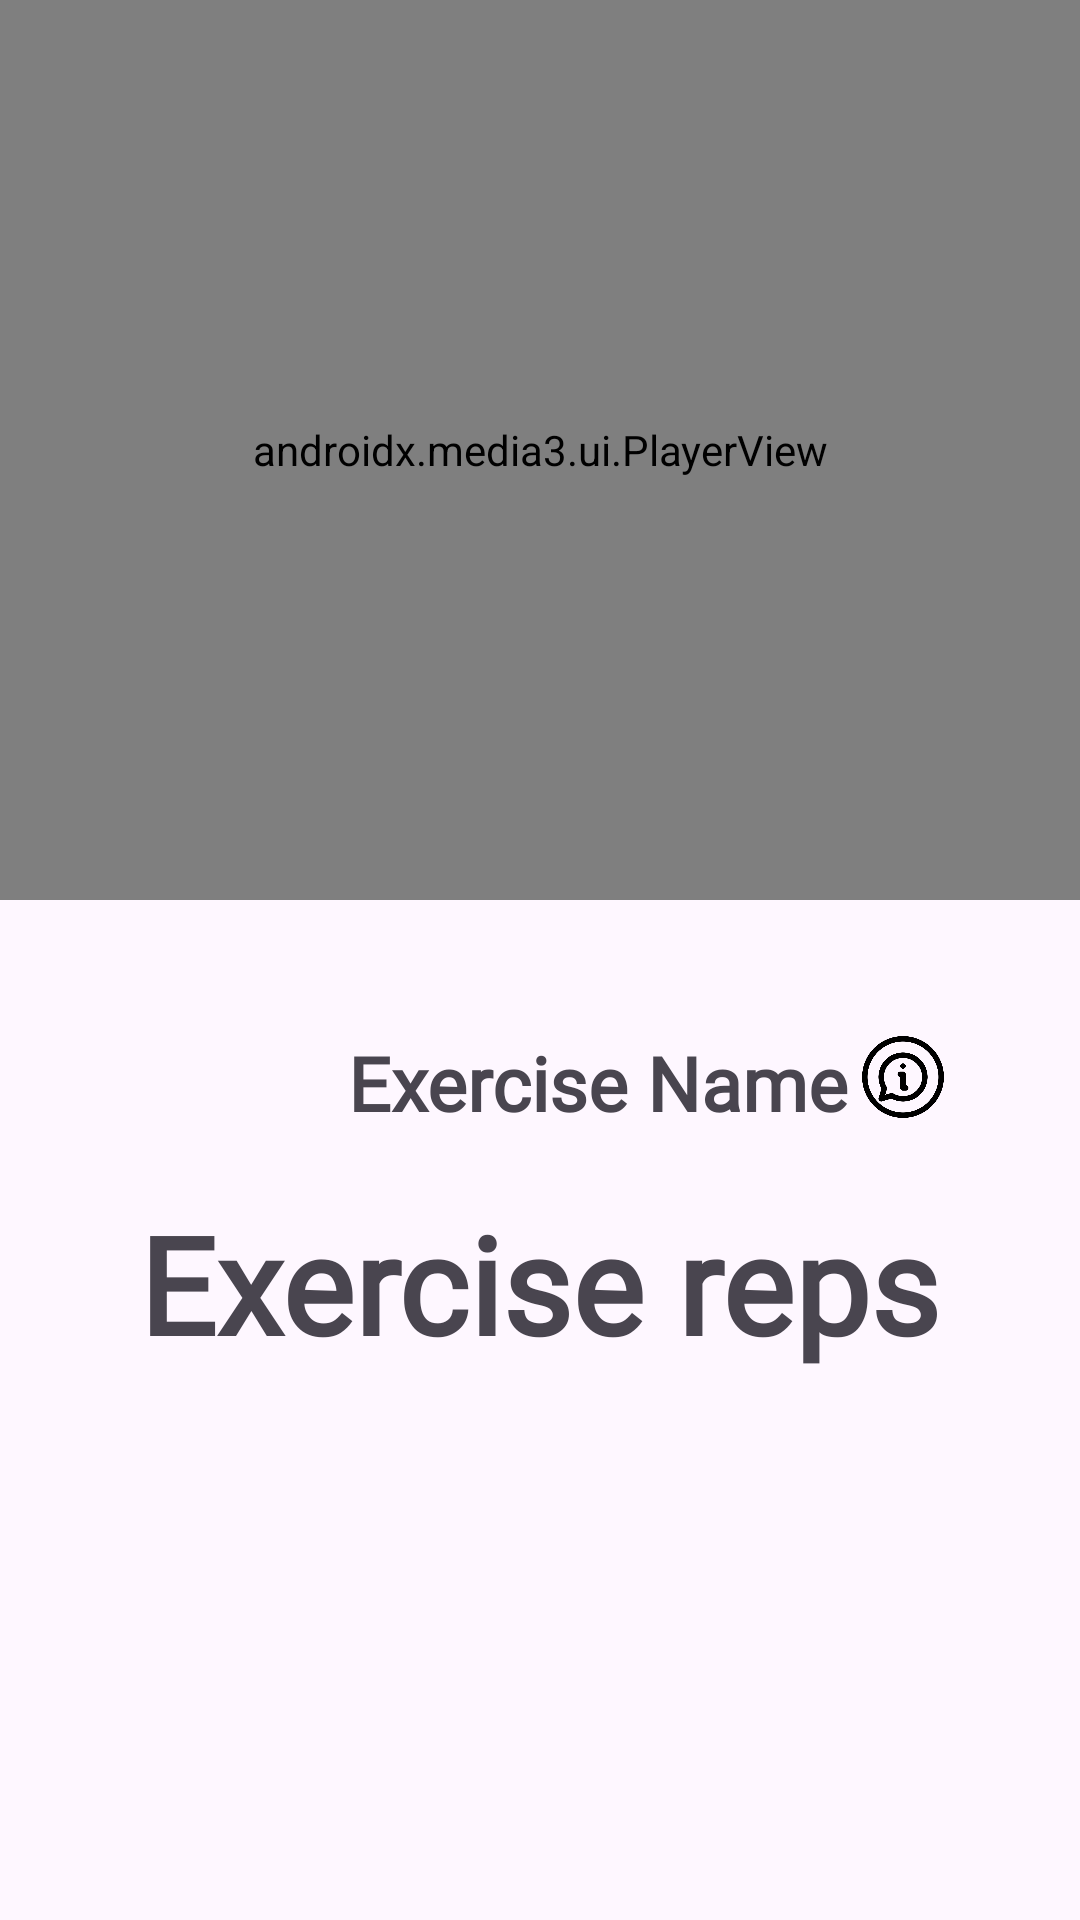

Named icons in this screenshot (1080x1920) and their bounding boxes, (x1, y1, x2, y2):
about: (862, 1036, 944, 1118)
